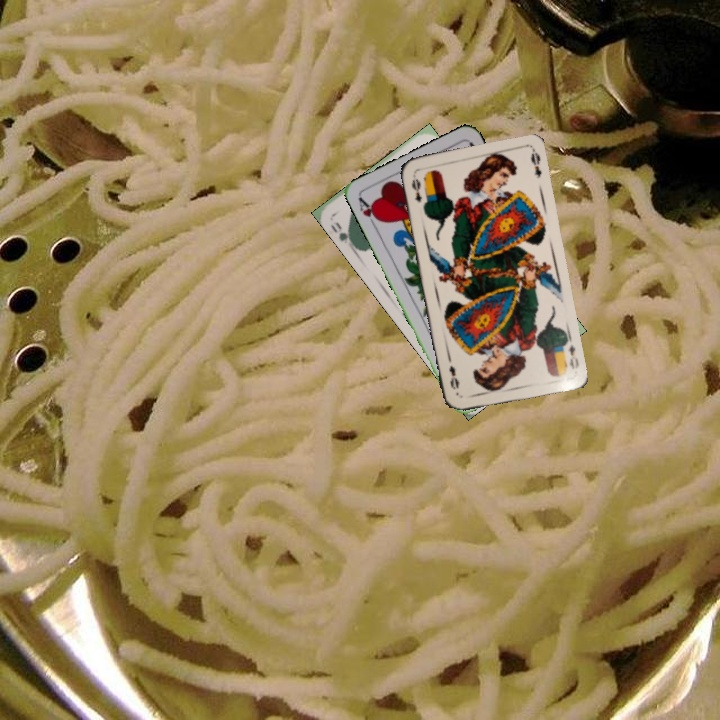EO: (558, 333, 581, 371), (407, 171, 424, 205)
GO: (326, 217, 357, 249)
HA: (354, 193, 383, 231)
